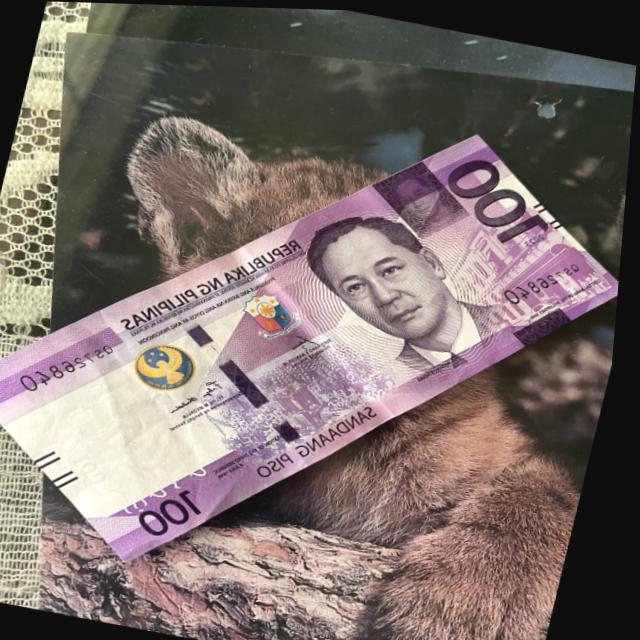concealed_value: (374, 158, 474, 237)
security_thread: (154, 283, 328, 462)
see_through_mark: (122, 457, 221, 520)
serial_number: (20, 322, 134, 409), (504, 258, 590, 303)
value: (440, 150, 556, 245)
value_watermark: (77, 449, 123, 485)
watermark: (45, 369, 210, 504)
